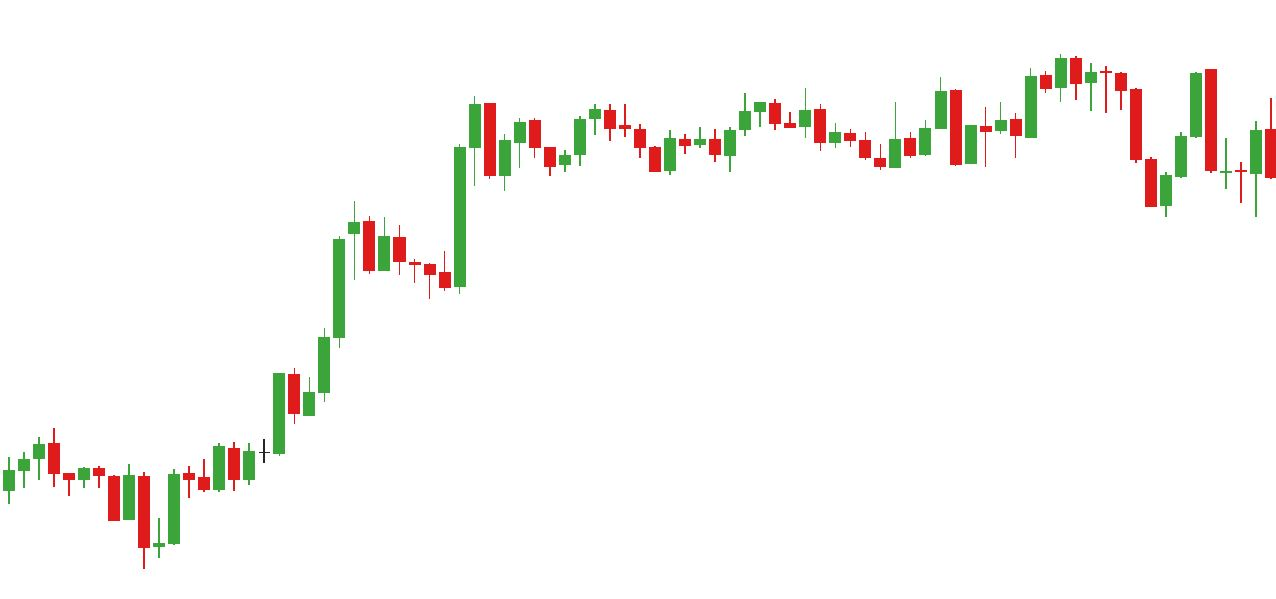buy: (571, 119, 677, 178)
